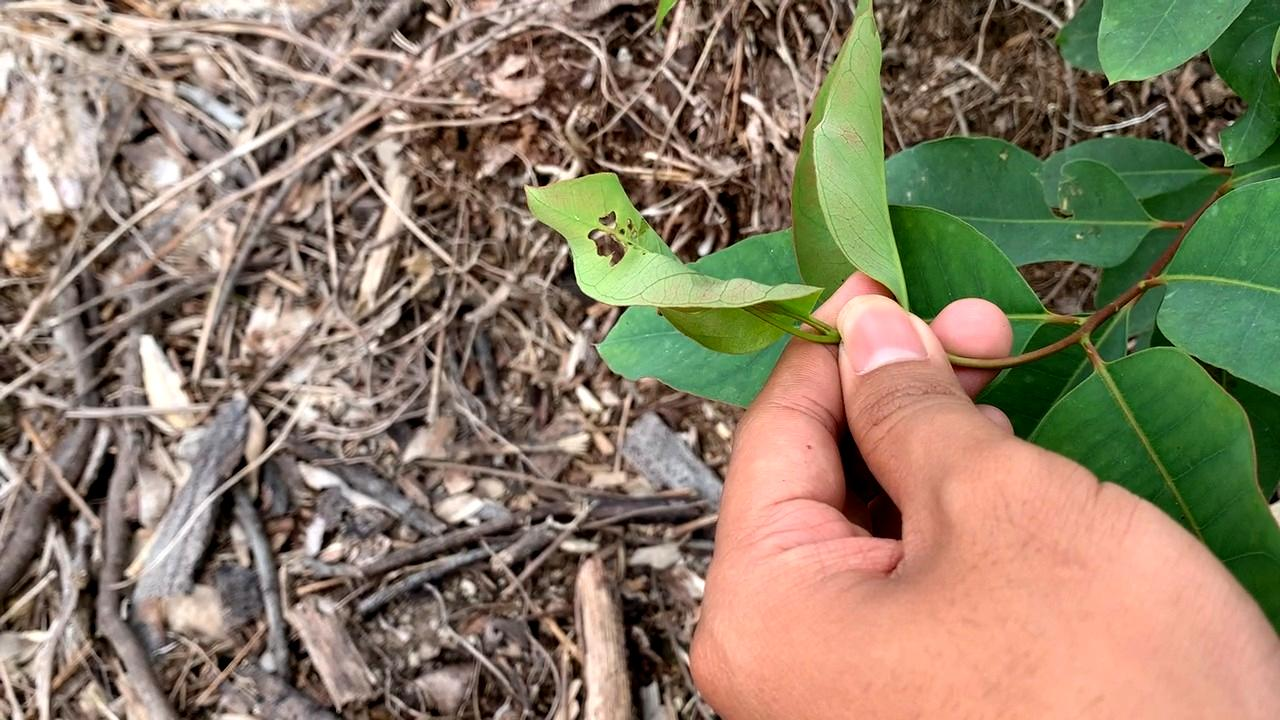Leaf Roller - Leaf: (518, 173, 816, 366)
